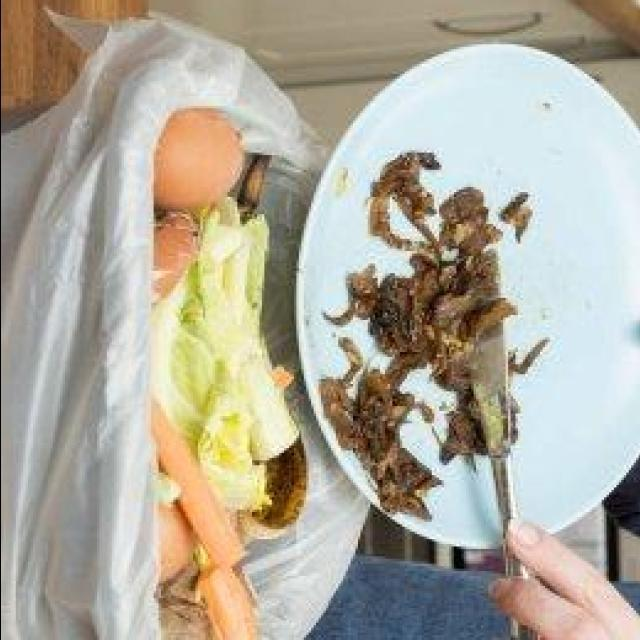Garbage: (319, 152, 549, 519), (151, 110, 306, 640)
